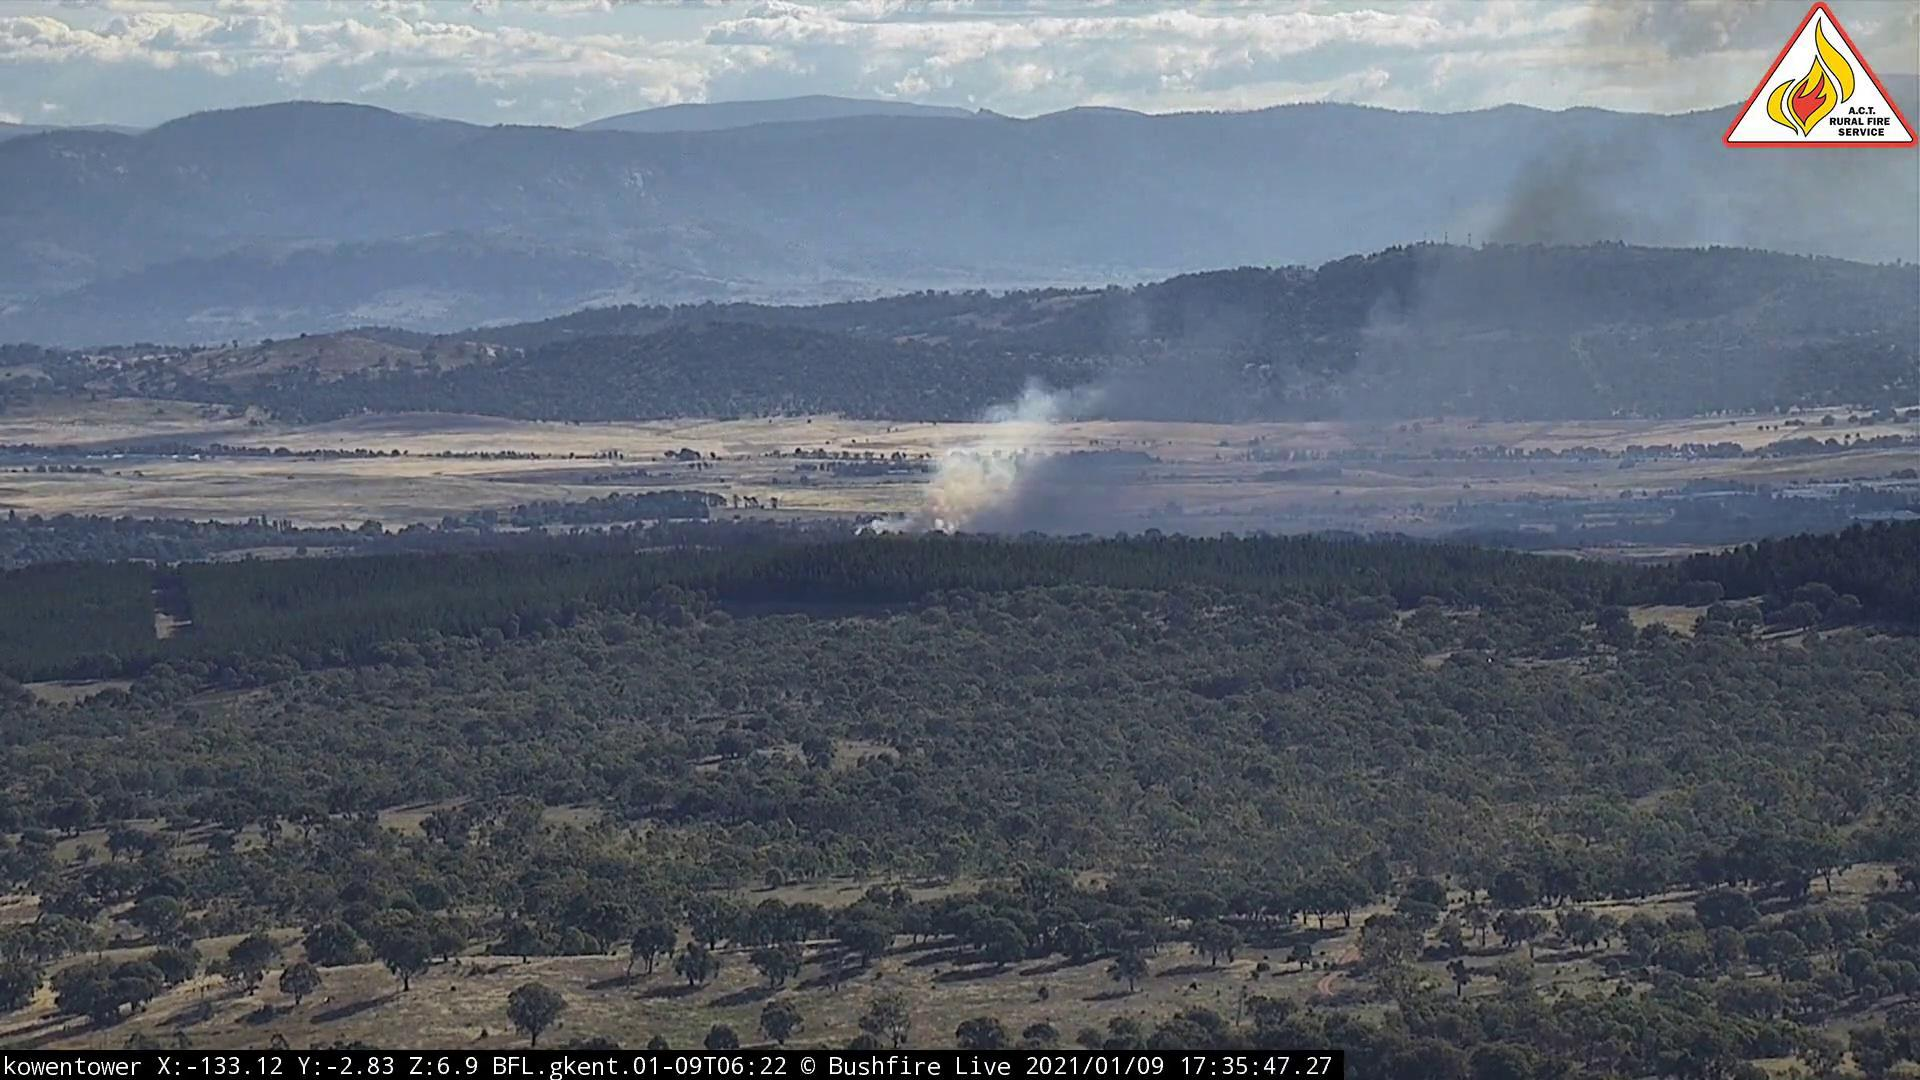instance_salient_object: (855, 156, 1851, 546)
